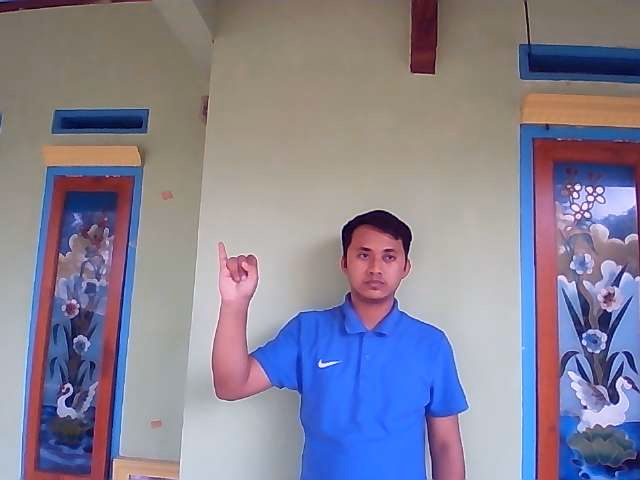I: (216, 240, 261, 302)
